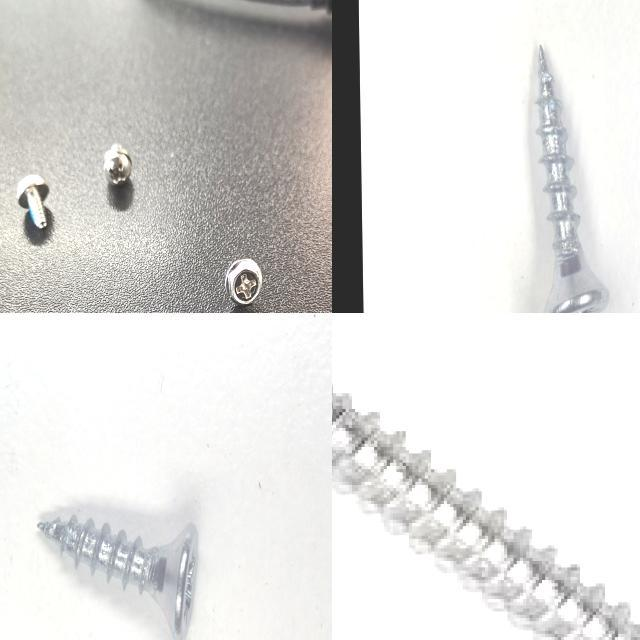Screw: (332, 385, 640, 640), (37, 514, 198, 640), (537, 45, 609, 313), (223, 255, 265, 312), (15, 172, 51, 234), (100, 140, 134, 194)
